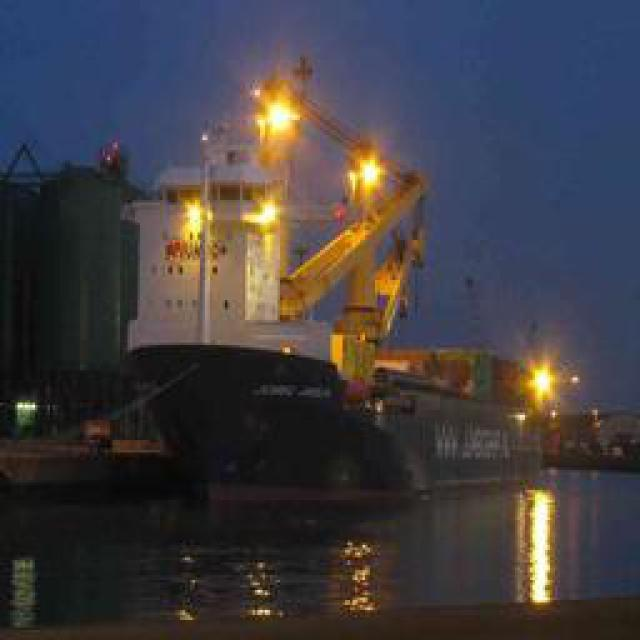Ship: (116, 58, 574, 526)
